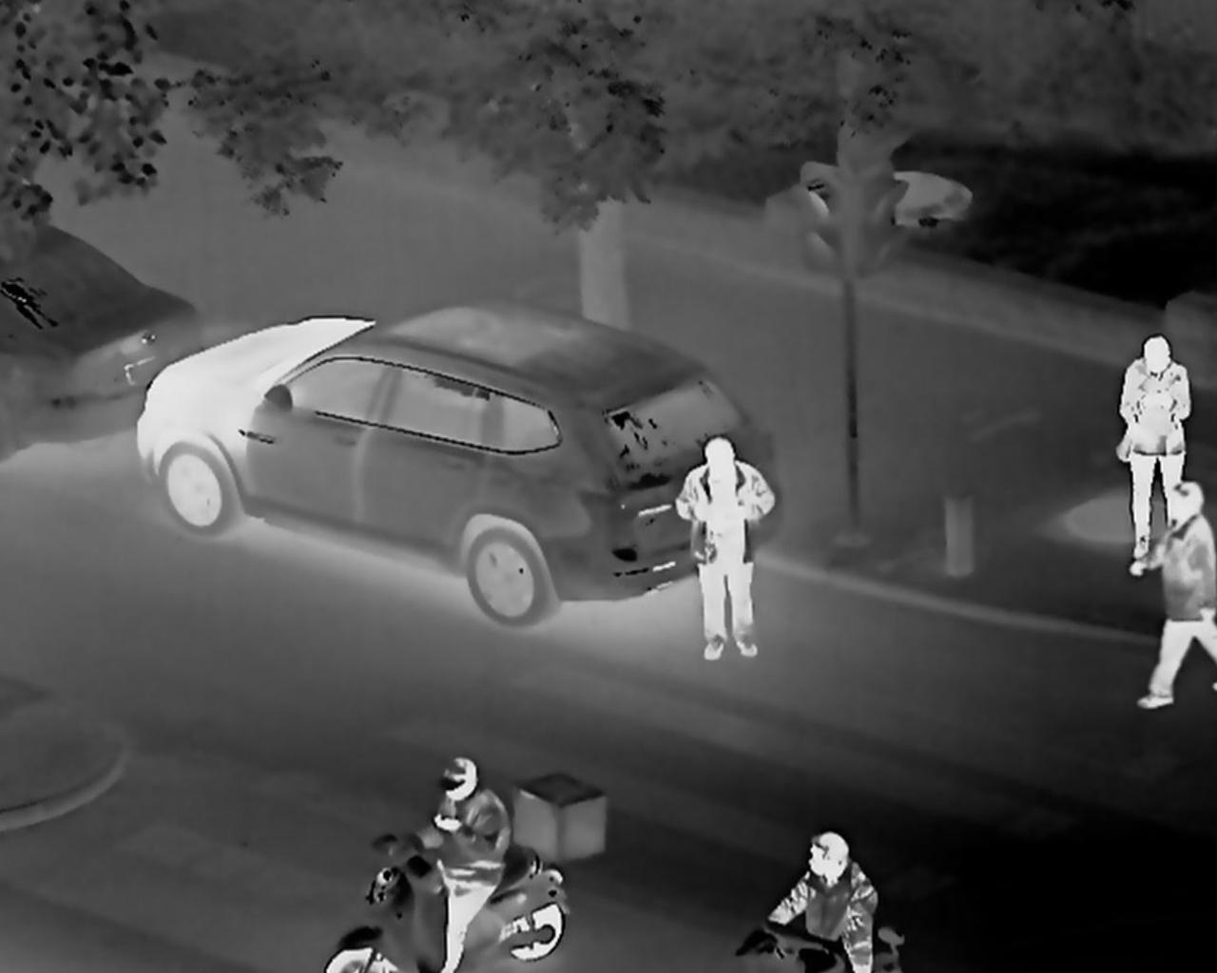person: (421, 727, 544, 948), (684, 443, 783, 668), (788, 828, 898, 972), (1149, 497, 1217, 654), (1107, 330, 1154, 478)
